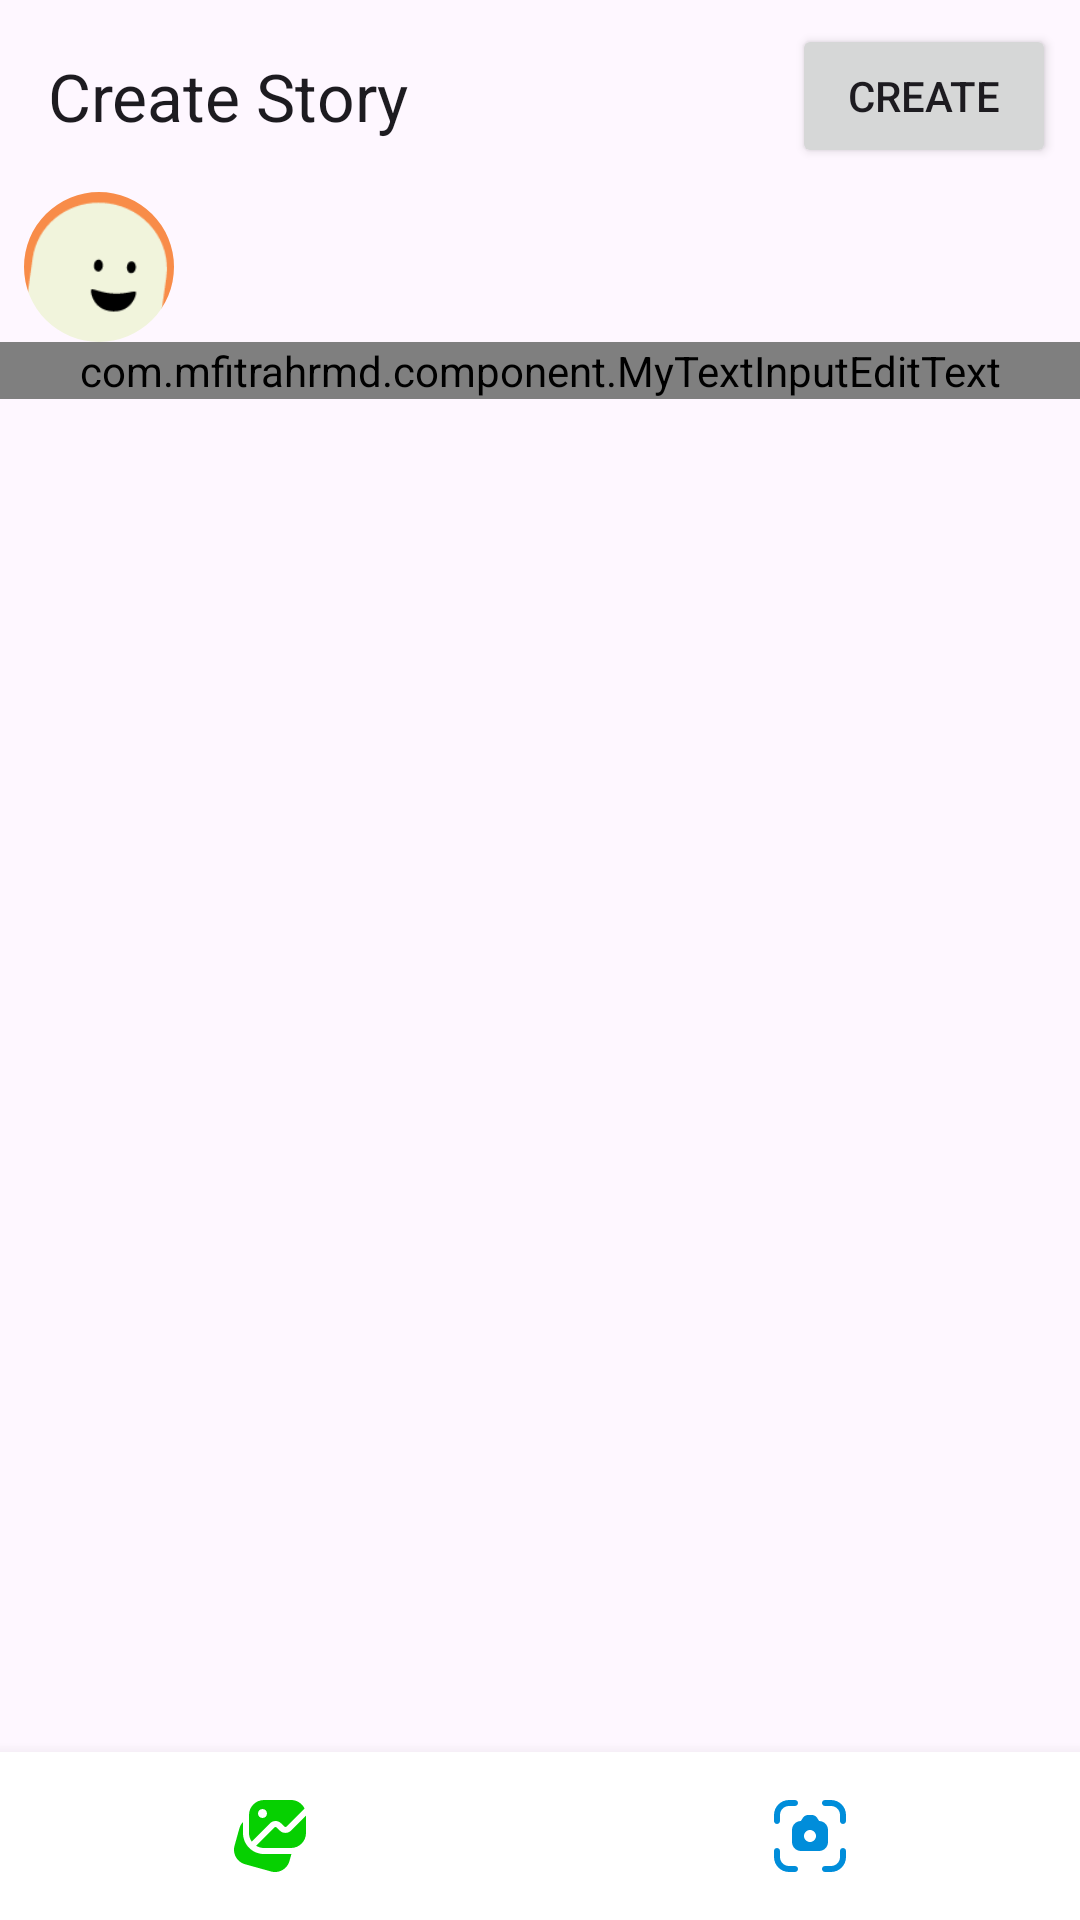

Icons on this 1080w x 1920h Android screen, each with the point to tap as (x,y):
add image from gallery: (270,1836)
